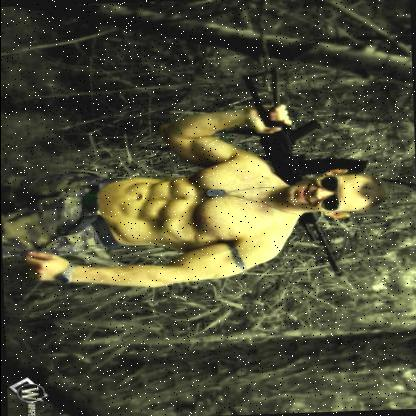rifle: (228, 59, 388, 290)
